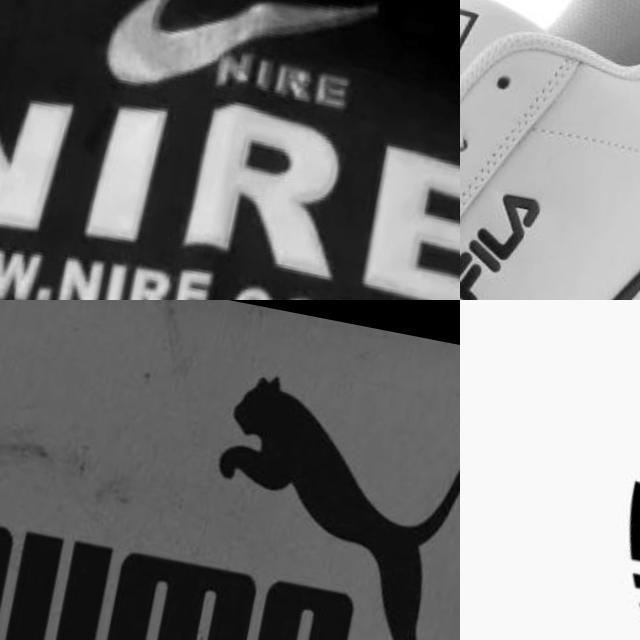ADIDAS_original: (541, 359, 640, 640)
FILA_original: (460, 176, 549, 300)
NIKE_fake: (0, 0, 460, 300)
PUMA_original: (0, 300, 460, 640)
